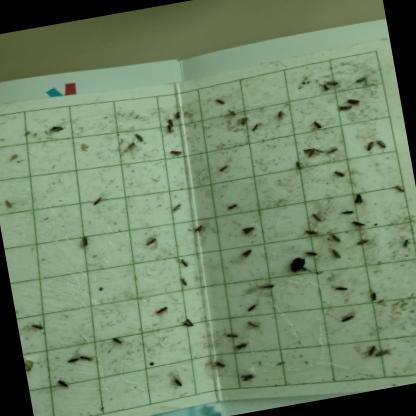prays_oleae: (98, 322, 126, 358), (77, 228, 98, 266), (26, 310, 48, 346), (233, 363, 261, 391), (298, 236, 324, 266), (50, 364, 72, 398), (44, 119, 70, 146), (298, 140, 324, 166), (165, 370, 188, 399), (148, 300, 174, 325), (329, 274, 356, 298), (215, 155, 239, 181), (164, 194, 188, 219), (164, 142, 185, 170), (370, 129, 391, 157), (372, 342, 397, 365), (203, 350, 225, 376), (360, 132, 382, 158), (245, 115, 266, 140), (307, 201, 325, 230), (334, 308, 360, 328), (177, 245, 196, 272), (239, 218, 261, 241), (228, 335, 252, 356), (290, 151, 308, 179), (303, 219, 323, 244), (272, 100, 290, 127), (224, 101, 242, 128), (138, 235, 162, 255), (308, 110, 328, 134), (78, 344, 95, 372), (191, 218, 208, 246), (221, 319, 241, 342), (354, 233, 374, 256), (62, 345, 80, 370), (238, 295, 260, 315), (324, 140, 346, 160), (348, 214, 372, 232), (330, 226, 348, 249), (179, 312, 199, 332), (87, 191, 108, 210), (224, 194, 242, 216), (362, 340, 380, 362), (323, 74, 343, 93), (329, 245, 346, 267), (393, 179, 410, 200), (328, 166, 347, 184), (398, 234, 413, 255), (334, 204, 356, 218), (242, 245, 256, 266), (334, 102, 353, 117), (132, 130, 147, 147), (177, 274, 190, 293), (244, 319, 264, 331), (352, 72, 367, 86), (346, 92, 360, 107)
